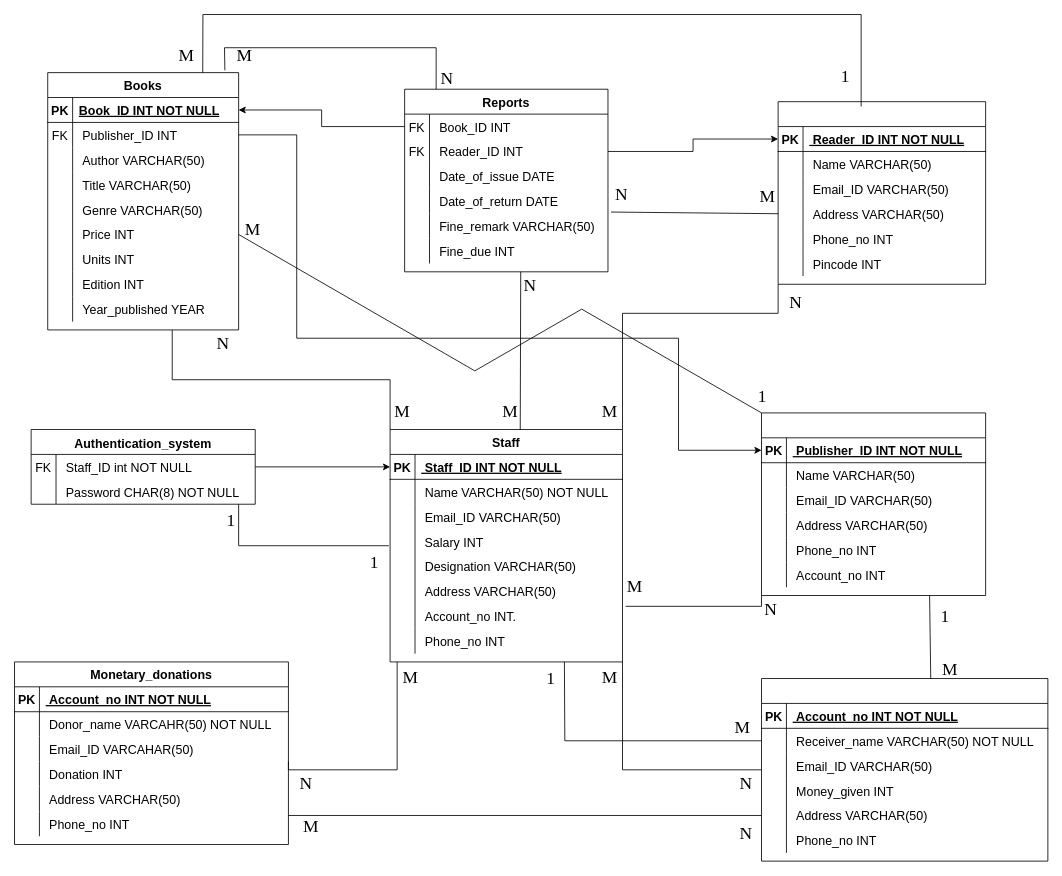
Some shapes in this 1062 by 876 pixel diagram are drawn without their labels. The shapes that lost their labels are listed below. From the top down, each one's box as (x1, y1, x2, y2) in pixels, then its label:
(777, 101, 986, 284): Readers
(761, 412, 986, 596): Publishers
(761, 678, 1048, 861): Expenditure
